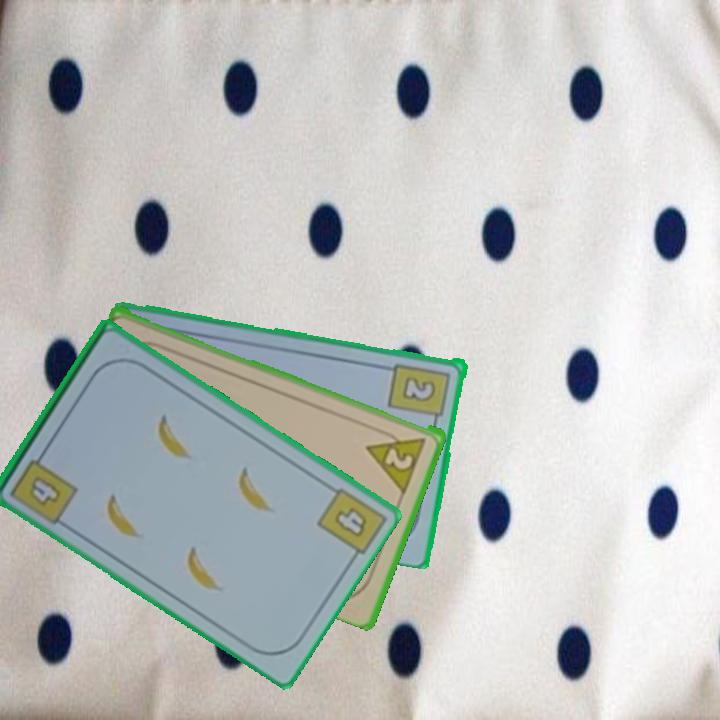2b: (386, 359, 454, 428)
2p: (363, 425, 429, 494)
4b: (6, 445, 81, 524), (331, 503, 371, 541)
